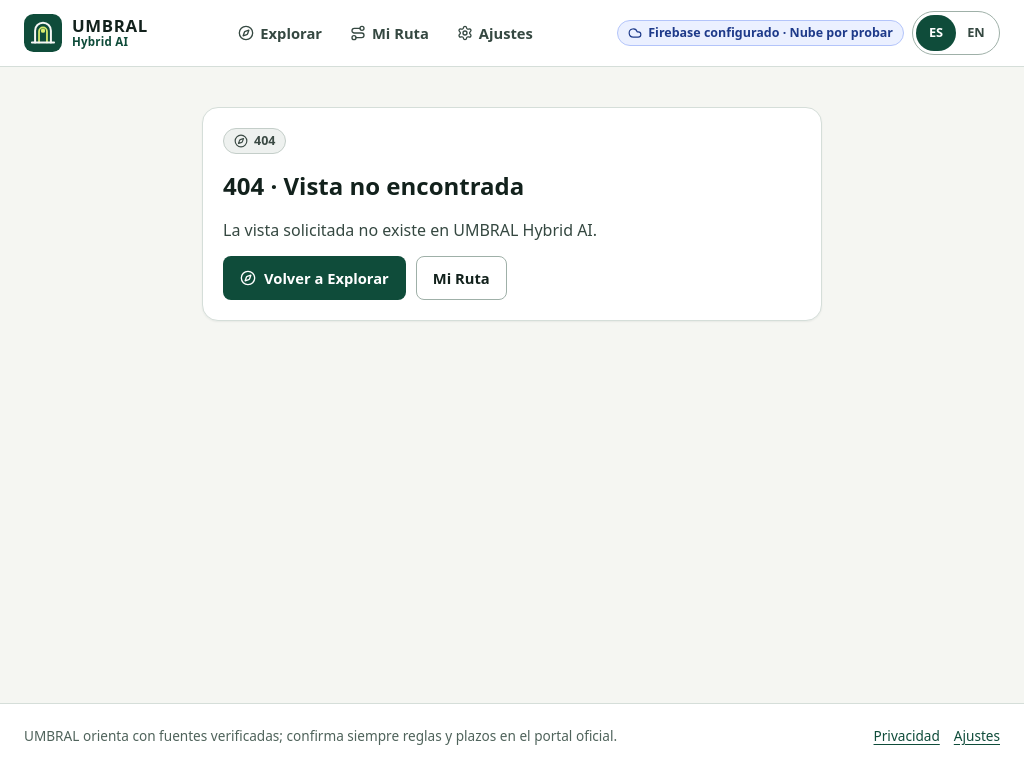
Test: UMBRAL Hybrid AI integration flows › warns when JSON import strips unsafe URLs, rolls back failed cloud follow-up turns, and localizes 404 routes
Later steps or results of the test are not shown.
expect the heading "404 · Vista no encontrada" is shown: met, box [223,169,524,202]
Click the link "Mi Ruta" in the row of "Firebase configurado · Nube por probar": (389, 33) [350,23,429,43]
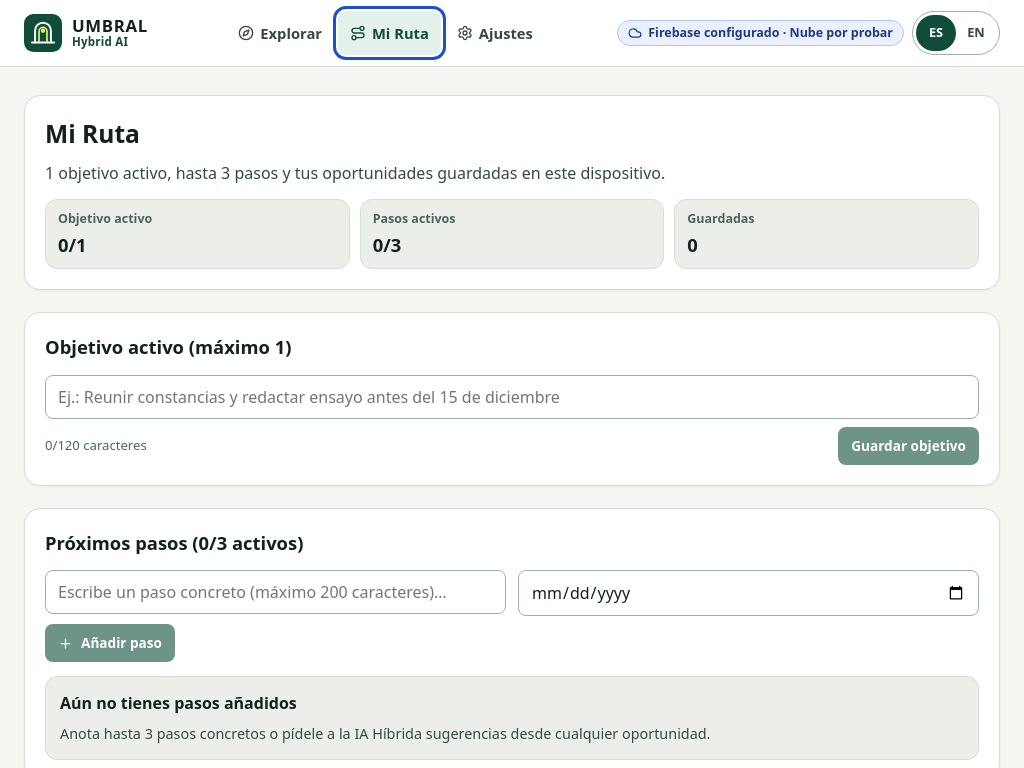
expect the heading "Mi Ruta" is shown: met, box [45,117,140,150]
